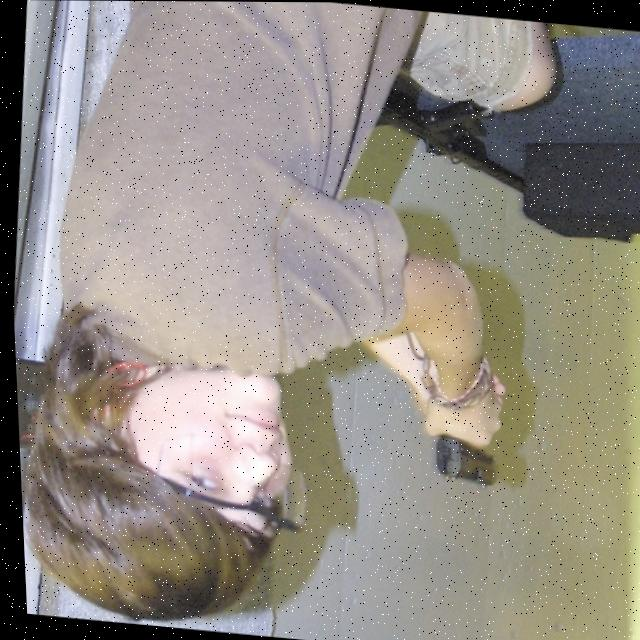pistol: (428, 432, 497, 488)
